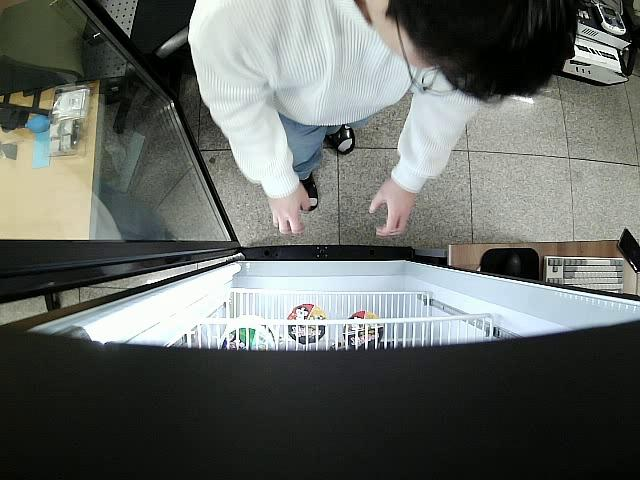00_hand: (369, 183, 415, 238), (269, 191, 309, 235)
